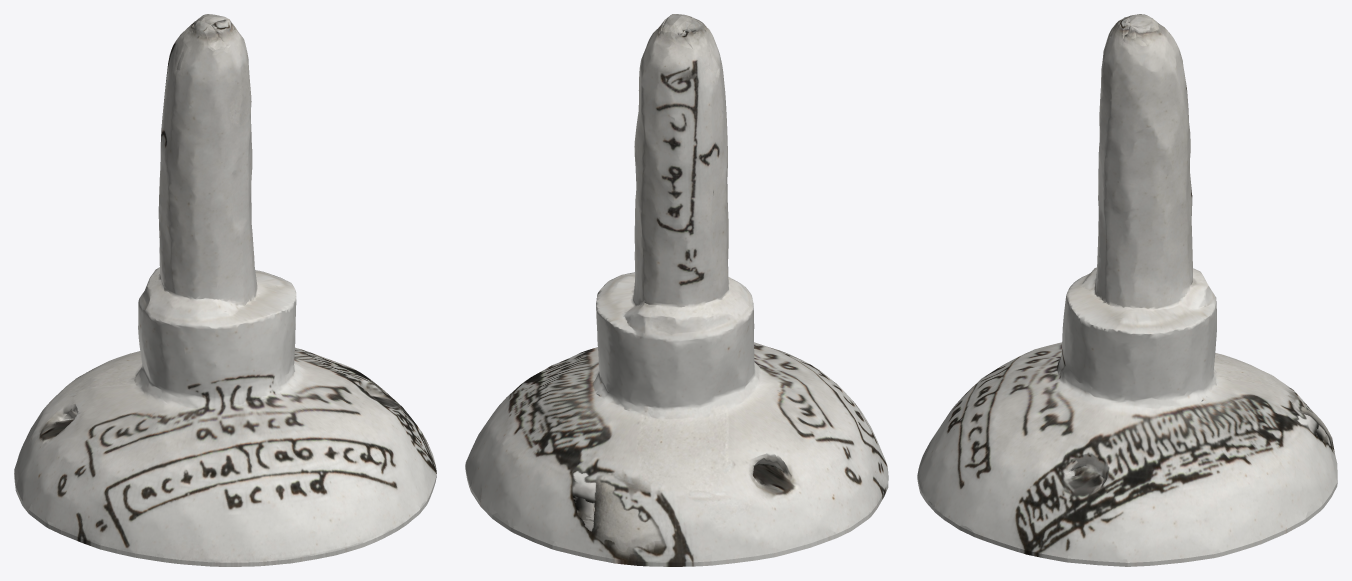
Rendered from horn1.glb.
3 renders of one model, left to right at view 1: azimuth 30°, elevation 25°; view 2: azimuth 150°, elevation 25°; view 3: azimuth 270°, elevation 25°, orthographic.
Parts seen in each view (by area): view 1: horn1; view 2: horn1; view 3: horn1.
Part boxes in pixels (x1=…): horn1: x1=14, y1=14, x2=436, y2=566; horn1: x1=465, y1=14, x2=888, y2=566; horn1: x1=917, y1=14, x2=1337, y2=566.
Size of the model in its own units: 1 by 1.2 by 0.9943.
Materials: 1 (1 with a texture image).
